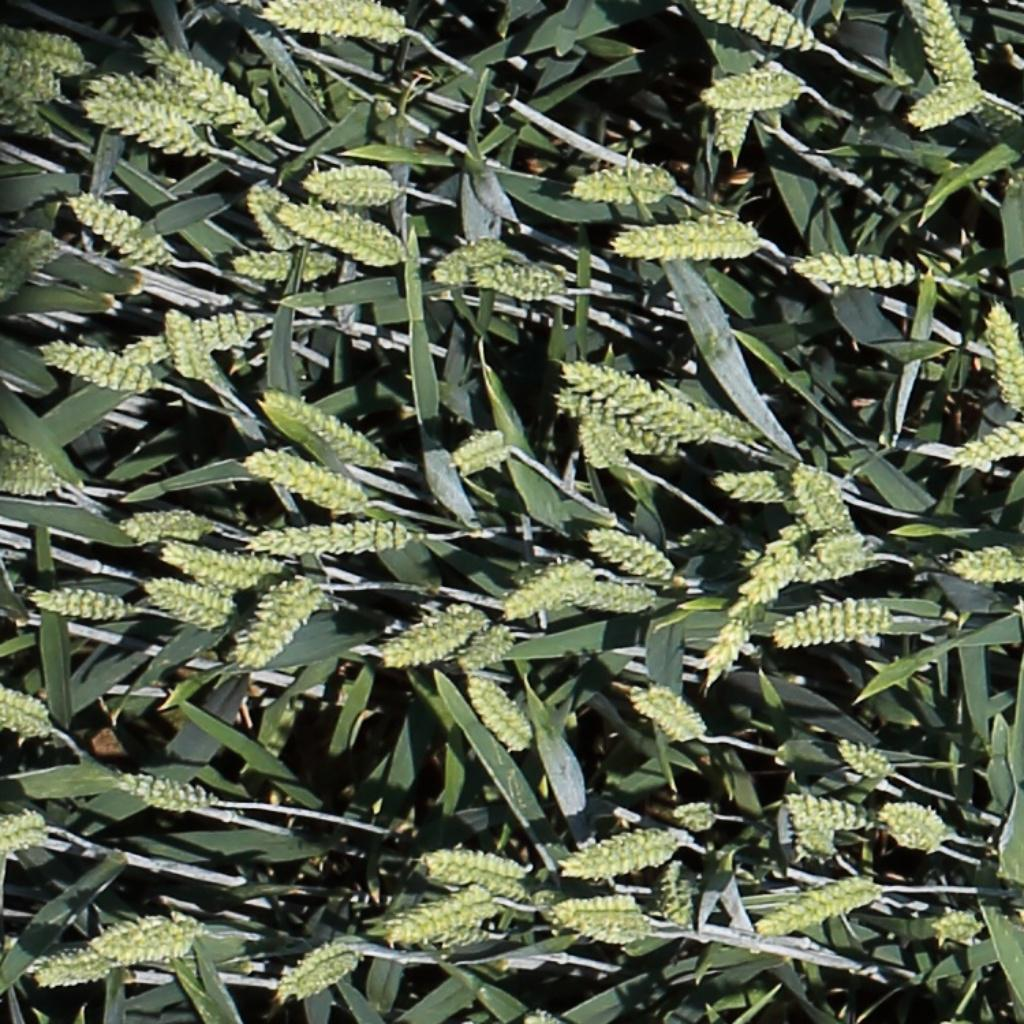0-0: (700, 524, 803, 684), (559, 360, 725, 434), (159, 46, 262, 138), (268, 390, 380, 465), (277, 203, 406, 268), (755, 877, 878, 939), (559, 821, 686, 881), (558, 394, 678, 457), (240, 517, 418, 557), (66, 192, 166, 263), (236, 582, 318, 666), (379, 607, 488, 668), (611, 216, 758, 261), (387, 891, 494, 952), (262, 0, 407, 45), (84, 96, 200, 152), (67, 915, 204, 961), (245, 453, 361, 507), (907, 0, 974, 92), (542, 896, 655, 950), (80, 72, 211, 117), (772, 599, 889, 648), (462, 674, 532, 753), (692, 62, 805, 110), (425, 846, 527, 899), (40, 341, 150, 390), (697, 1, 811, 47), (143, 574, 232, 630), (791, 249, 915, 289), (587, 528, 675, 584), (505, 562, 589, 620), (278, 940, 360, 999), (874, 797, 949, 861), (573, 164, 673, 211), (159, 543, 279, 582), (985, 299, 1024, 415), (1, 27, 92, 76), (113, 775, 223, 815), (299, 163, 403, 205), (30, 953, 146, 990), (790, 462, 846, 536), (159, 301, 207, 387), (241, 180, 296, 255), (1, 228, 57, 299), (777, 791, 865, 836), (428, 237, 509, 285), (27, 588, 126, 626), (626, 690, 699, 740), (907, 87, 983, 135), (790, 536, 871, 581), (709, 467, 795, 508), (229, 255, 338, 287), (548, 584, 656, 616), (120, 503, 204, 543), (471, 266, 559, 303), (714, 92, 753, 174), (1, 51, 61, 104), (682, 398, 755, 441), (656, 853, 692, 936), (446, 431, 512, 476), (779, 811, 835, 864), (574, 412, 619, 475), (962, 415, 1024, 460), (454, 625, 512, 673), (955, 546, 1024, 582), (923, 912, 984, 950), (835, 741, 894, 780), (0, 90, 49, 135), (668, 799, 724, 833), (0, 434, 54, 469), (0, 808, 44, 850), (0, 688, 50, 723), (1, 464, 54, 496), (0, 707, 50, 737)
